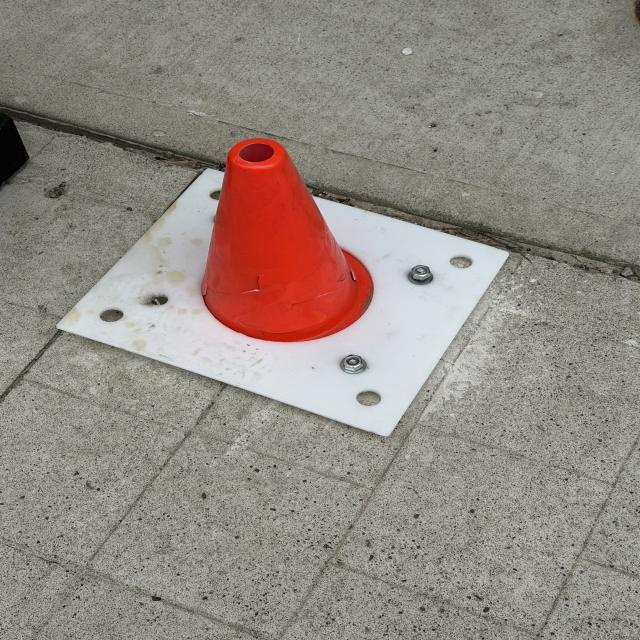Traffic Cone: (196, 138, 382, 346)
